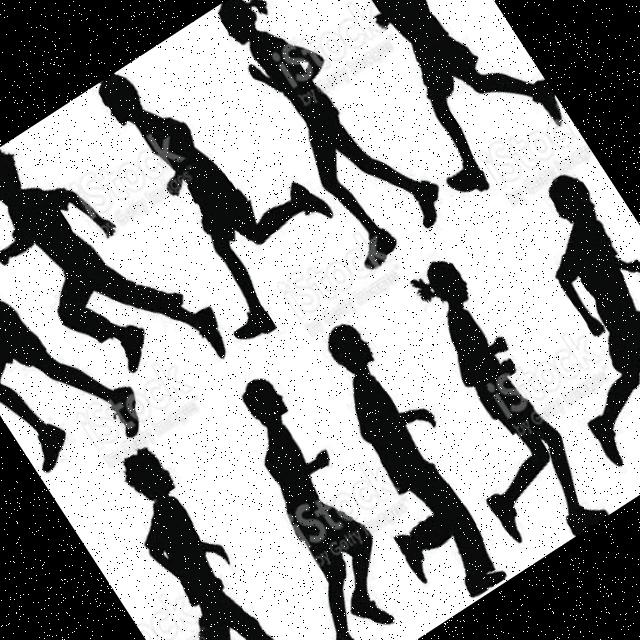Person: (78, 15, 366, 348), (359, 248, 615, 566), (0, 98, 236, 429), (278, 308, 528, 616), (183, 365, 434, 640), (205, 0, 454, 268), (464, 153, 640, 497), (57, 431, 334, 640), (298, 0, 577, 203), (0, 158, 152, 488)
